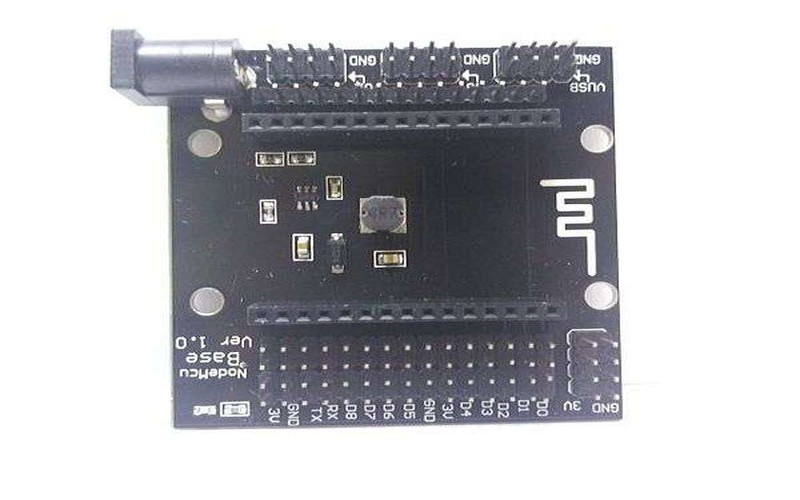IoT Sensor: (87, 11, 647, 448)
